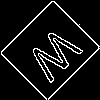W: (25, 25, 91, 91)
